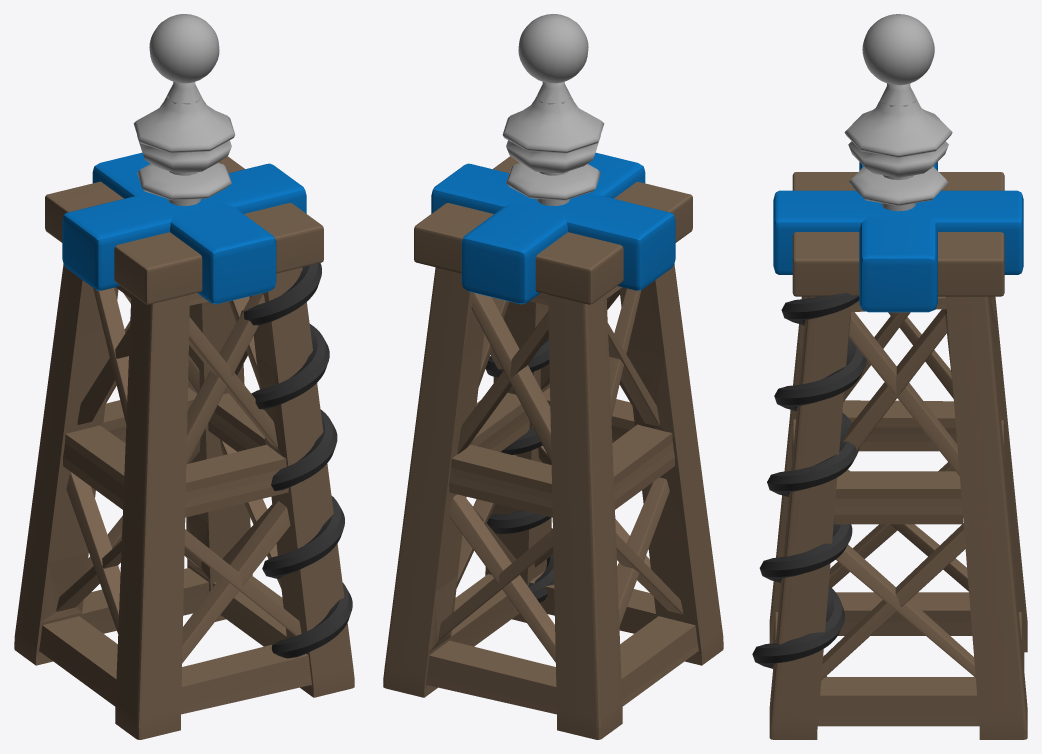
The model's file is Tesla.fbx.
The picture shows the model from 3 angles, left to right: view 1: azimuth 30°, elevation 25°; view 2: azimuth 150°, elevation 25°; view 3: azimuth 270°, elevation 25°; orthographic projection. The views are drawn at different scales.
Parts seen in each view (by area): view 1: polySurface2, polySurface1, pHelix1, polySurface3, polySurface5, polySurface6, polySurface4, polySurface7; view 2: polySurface2, polySurface1, polySurface3, polySurface5, polySurface6, polySurface4, pHelix1, polySurface7; view 3: polySurface2, polySurface1, pHelix1, polySurface5, polySurface3, polySurface6, polySurface4, polySurface7.
Part boxes in pixels (x1=…): polySurface2: x1=14, y1=264, x2=354, y2=739; polySurface1: x1=45, y1=156, x2=323, y2=304; pHelix1: x1=240, y1=263, x2=352, y2=658; polySurface3: x1=62, y1=163, x2=306, y2=290; polySurface5: x1=92, y1=152, x2=276, y2=304; polySurface6: x1=133, y1=81, x2=235, y2=173; polySurface4: x1=149, y1=14, x2=219, y2=83; polySurface7: x1=137, y1=163, x2=231, y2=200; polySurface2: x1=383, y1=264, x2=723, y2=739; polySurface1: x1=414, y1=156, x2=692, y2=304; polySurface3: x1=431, y1=163, x2=675, y2=290; polySurface5: x1=461, y1=152, x2=645, y2=304; polySurface6: x1=502, y1=81, x2=604, y2=173; polySurface4: x1=518, y1=14, x2=588, y2=83; pHelix1: x1=485, y1=336, x2=553, y2=610; polySurface7: x1=506, y1=163, x2=600, y2=200; polySurface2: x1=769, y1=296, x2=1027, y2=739; polySurface1: x1=792, y1=172, x2=1004, y2=296; pHelix1: x1=752, y1=293, x2=866, y2=676; polySurface5: x1=773, y1=190, x2=1023, y2=274; polySurface3: x1=859, y1=162, x2=937, y2=312; polySurface6: x1=844, y1=83, x2=952, y2=177; polySurface4: x1=862, y1=14, x2=934, y2=85; polySurface7: x1=848, y1=166, x2=948, y2=205.
Size of the model in its own units: 245 by 686 by 256.
